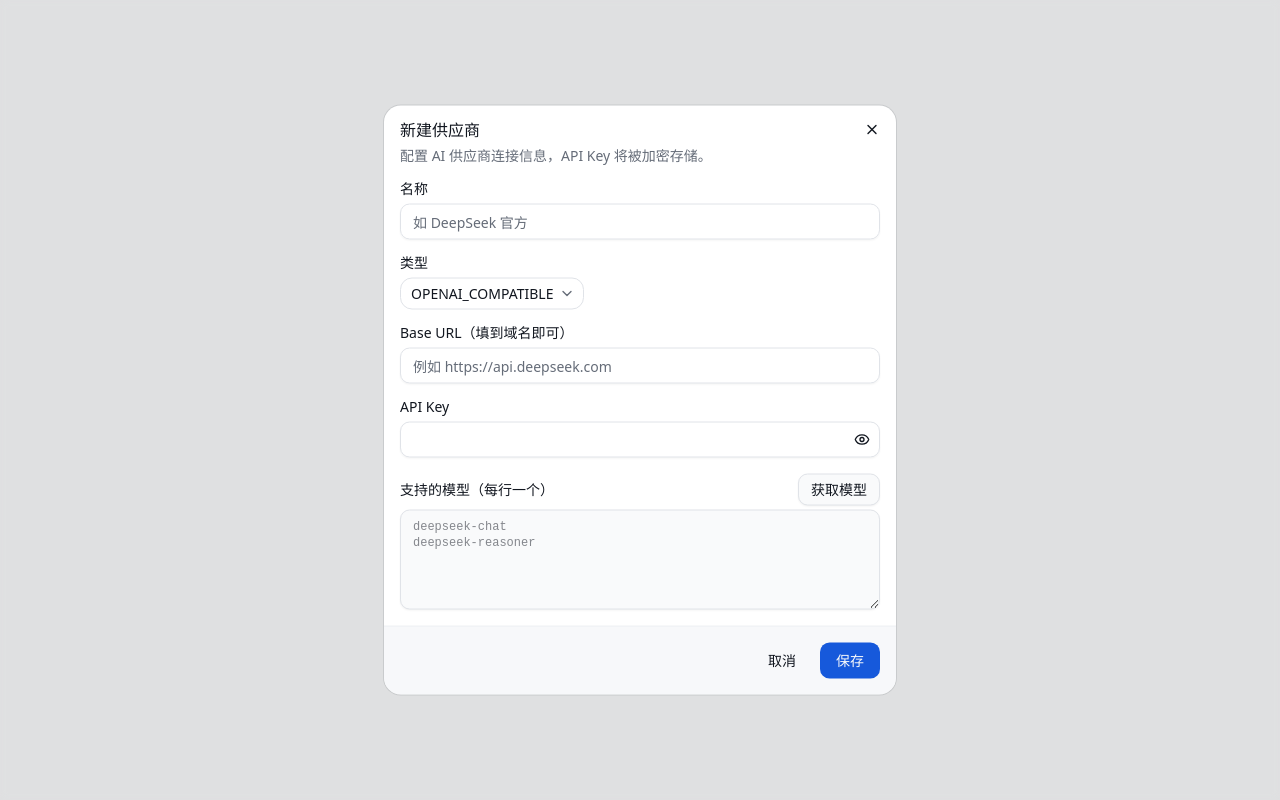
ProviderFormDialog › 获取模型 → 勾选 → 确定并入文本框
Type "https://x" into the field labelled "Base URL（填到域名即可）".
click(640, 366); type("https://x")  # box [400,348,880,384]
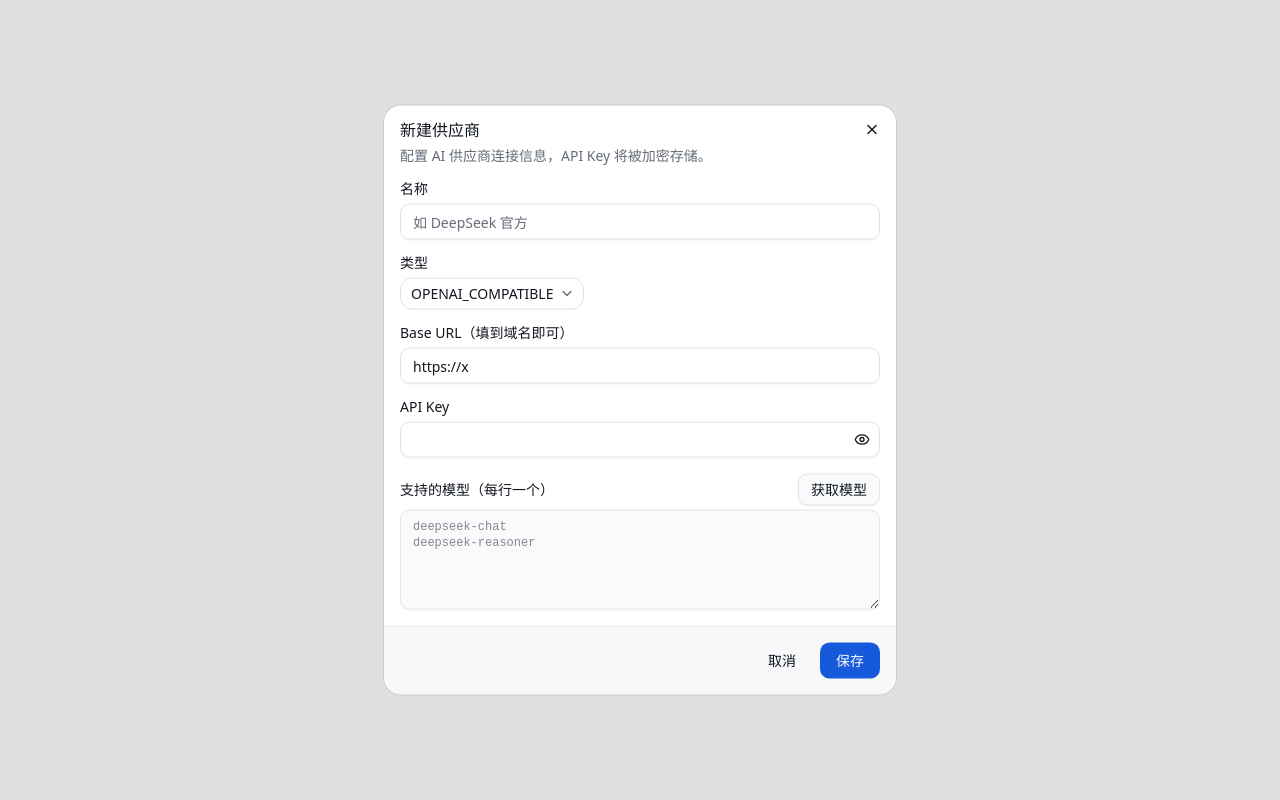
Click the button with test id "fetch-models".
click(839, 490)  # box [798,474,880,506]
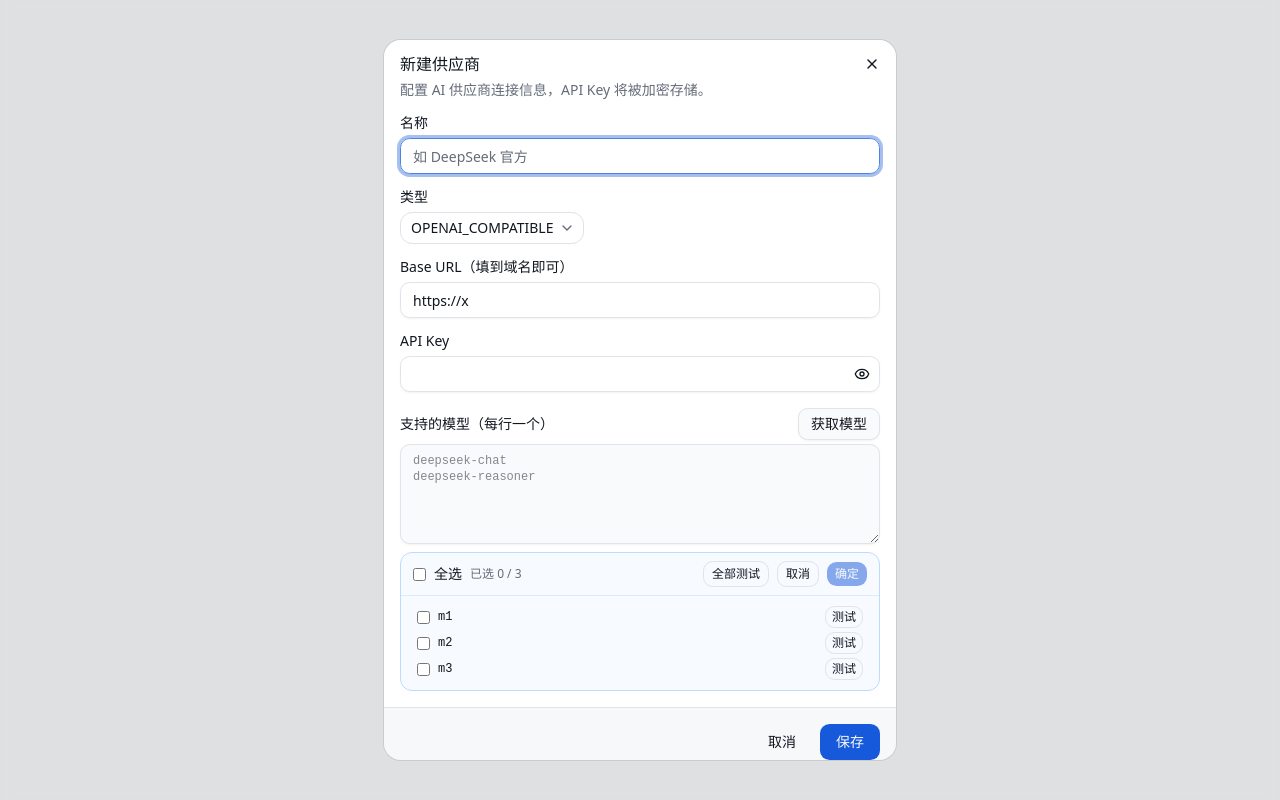
Now the element with test id "fetched-models-panel" is shown, box [400,552,880,691]
Click the checkbox named "选择模型 m1".
click(424, 617)  # box [417,610,430,624]
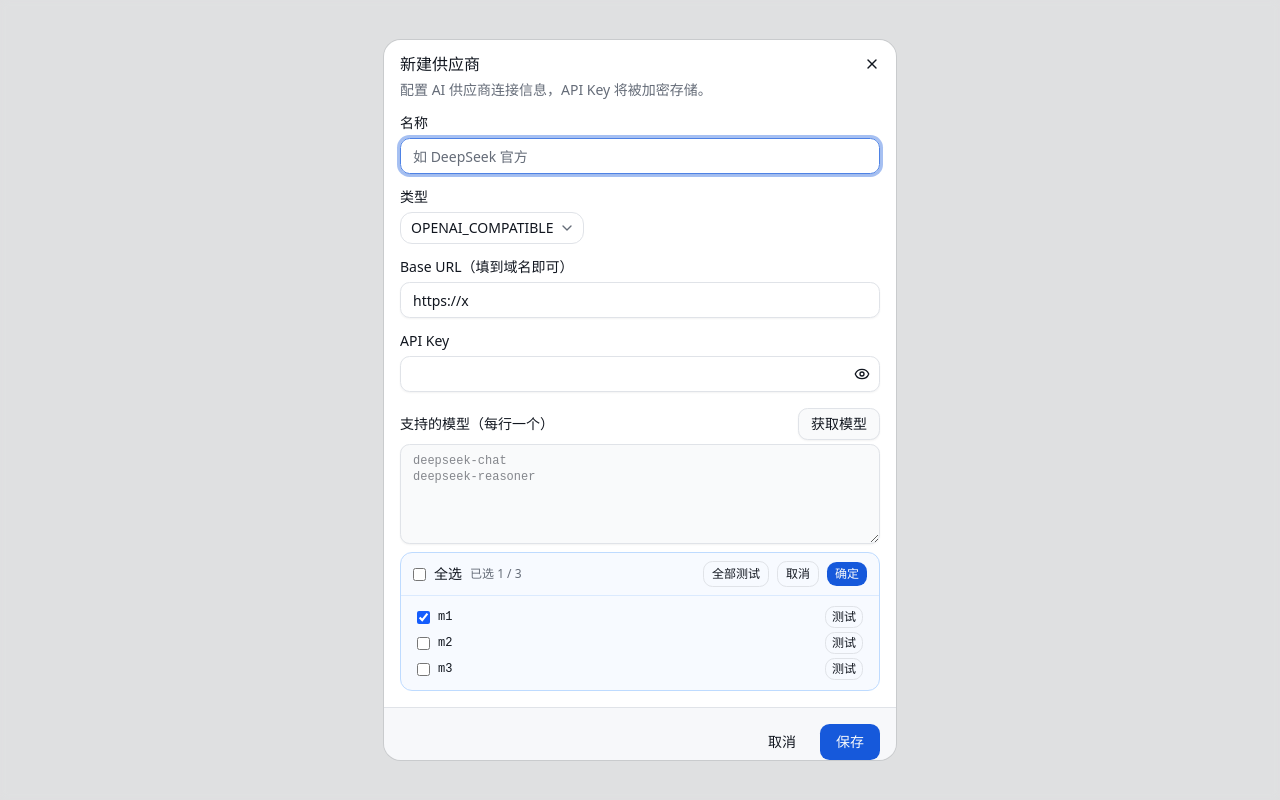
Click the checkbox named "选择模型 m3".
click(424, 669)  # box [417,662,430,676]
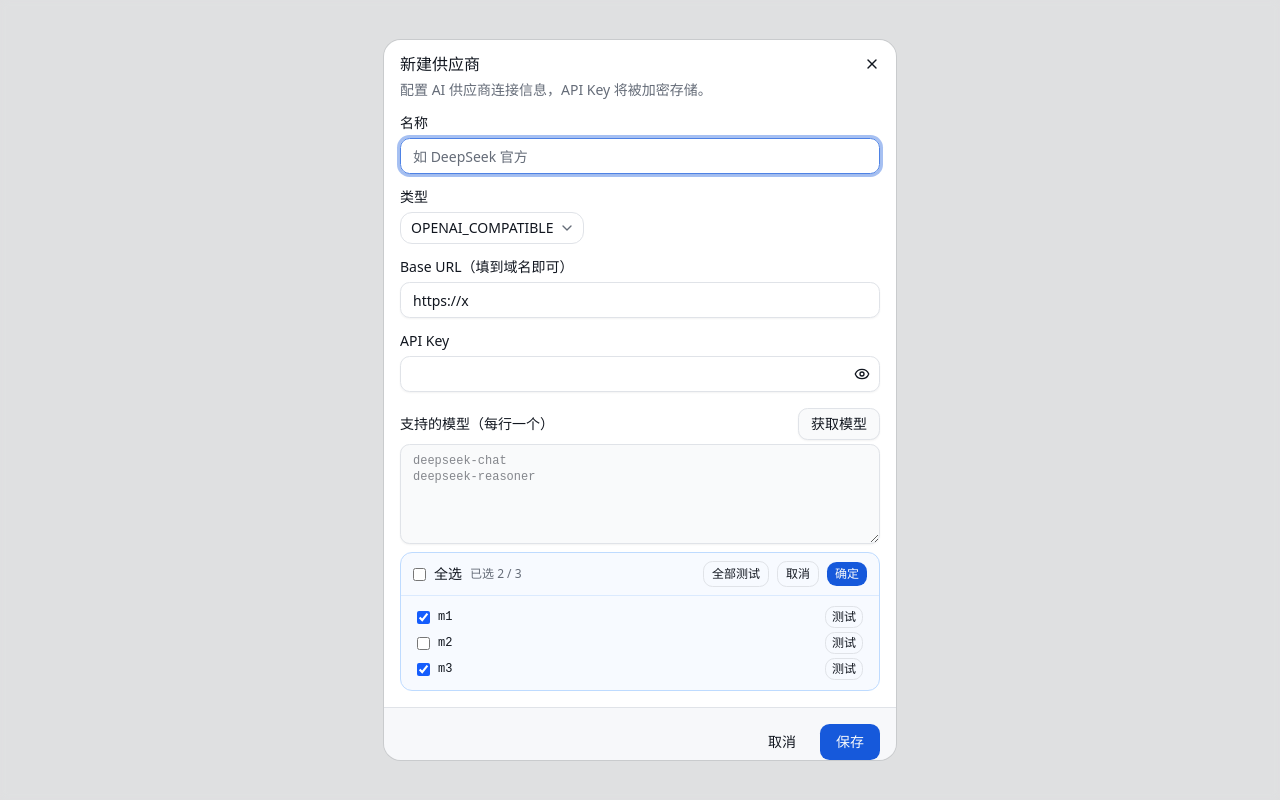
Click the button "确定".
click(847, 574)  # box [827,562,867,586]
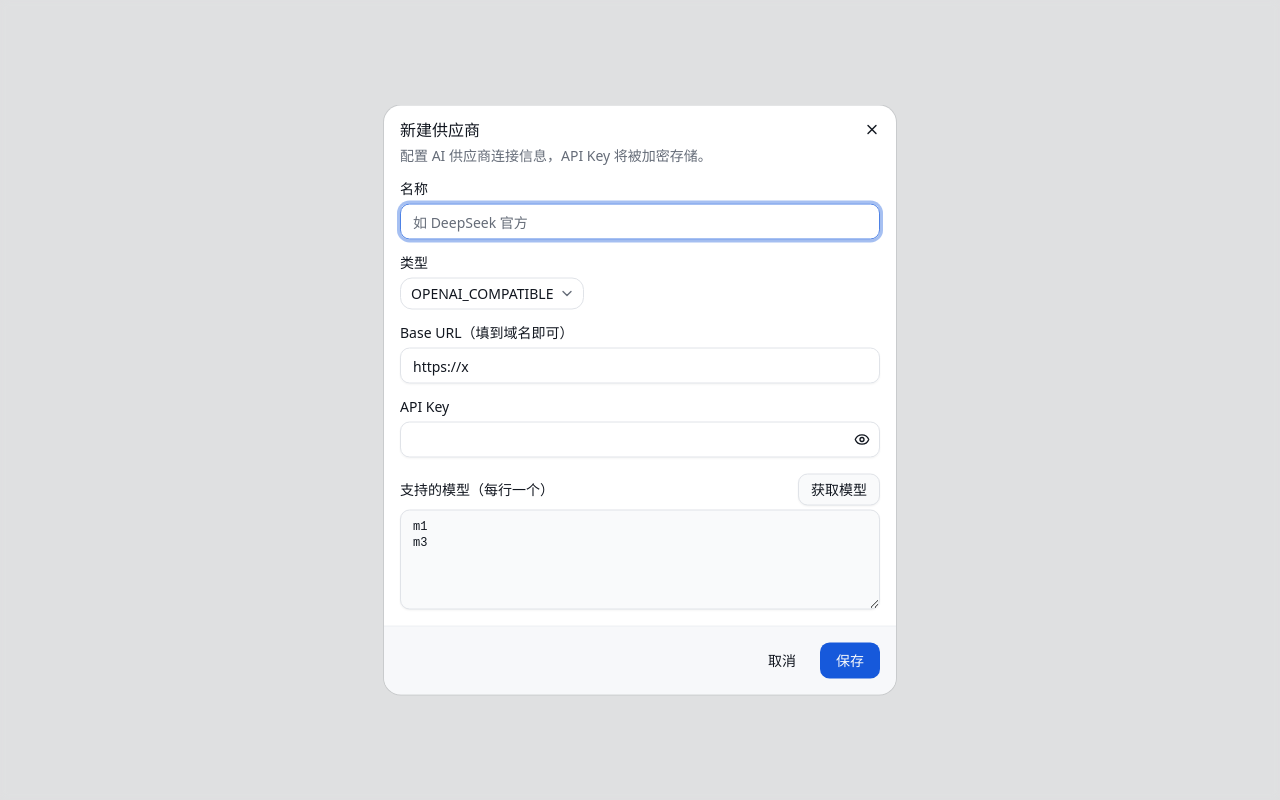
Now the element with test id "fetched-models-panel" is gone
